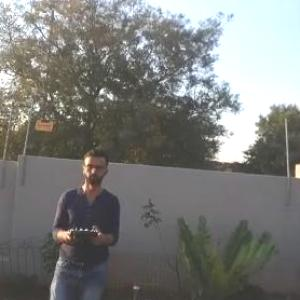follow: (43, 148, 124, 299)
